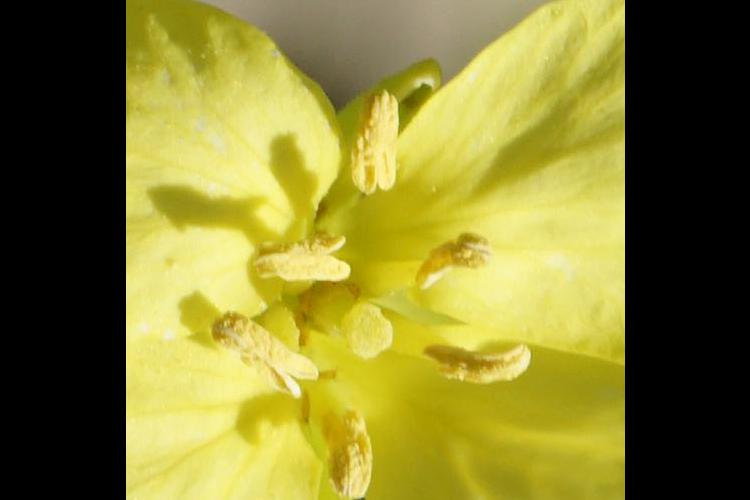yellow: (142, 1, 623, 500)
